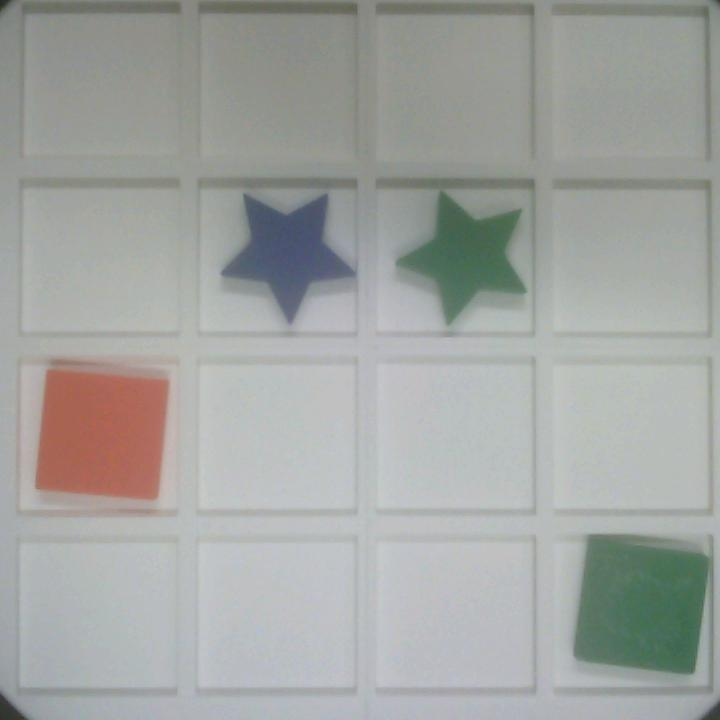Blue star: (218, 190, 354, 322)
Green square: (567, 534, 712, 678)
Green star: (397, 191, 529, 323)
Orange square: (34, 367, 170, 503)
